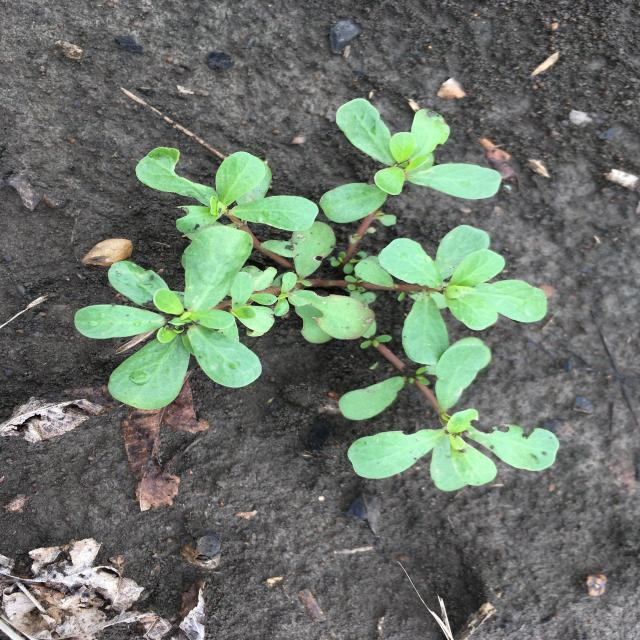Purslane: (75, 99, 559, 492)
